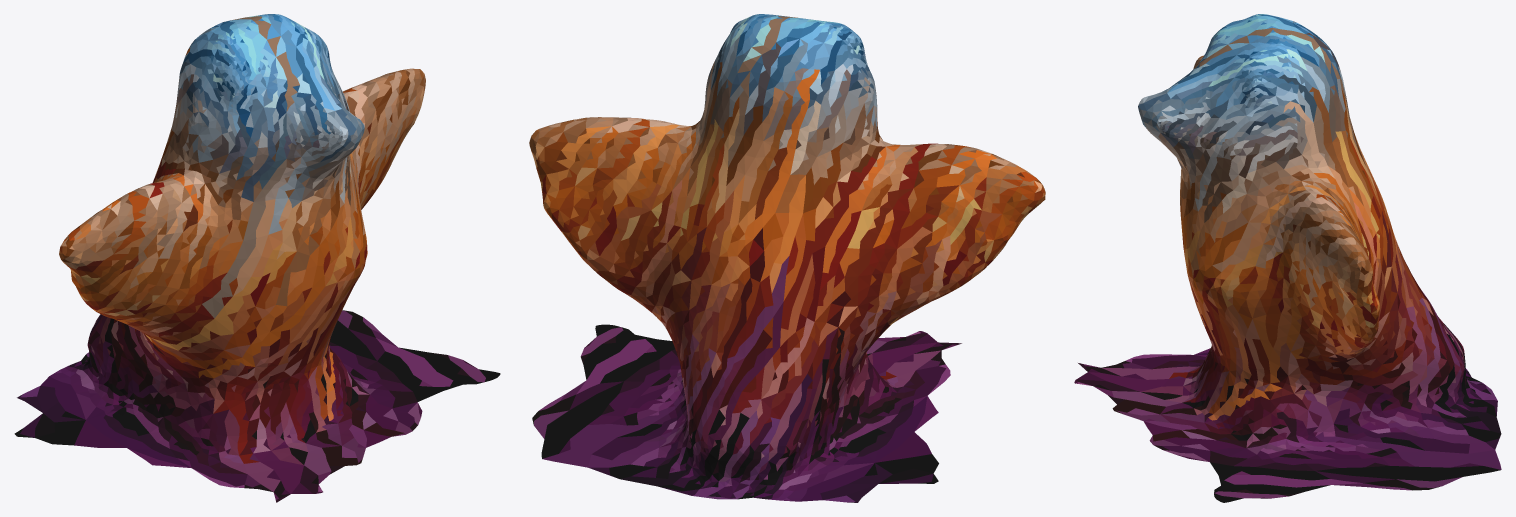
The model's file is bird.glb.
3 renders of one model, left to right at view 1: azimuth 30°, elevation 25°; view 2: azimuth 150°, elevation 25°; view 3: azimuth 270°, elevation 25°, orthographic. The views are drawn at different scales.
Visible parts, largest first — view 1: bird.001; view 2: bird.001; view 3: bird.001.
Boxes of the visible parts, <box> form: bird.001: <box>14,14,500,502</box>; bird.001: <box>529,14,1045,502</box>; bird.001: <box>1074,14,1501,502</box>.
Bounding box in the file's own units: 3.2 × 2.7 × 2.73.
